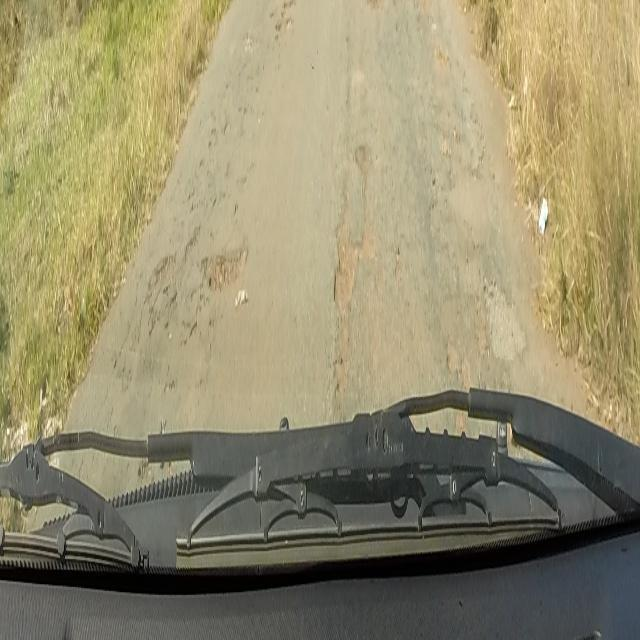pothole: (331, 138, 376, 407), (142, 238, 248, 346), (269, 0, 308, 38), (368, 0, 383, 15)
